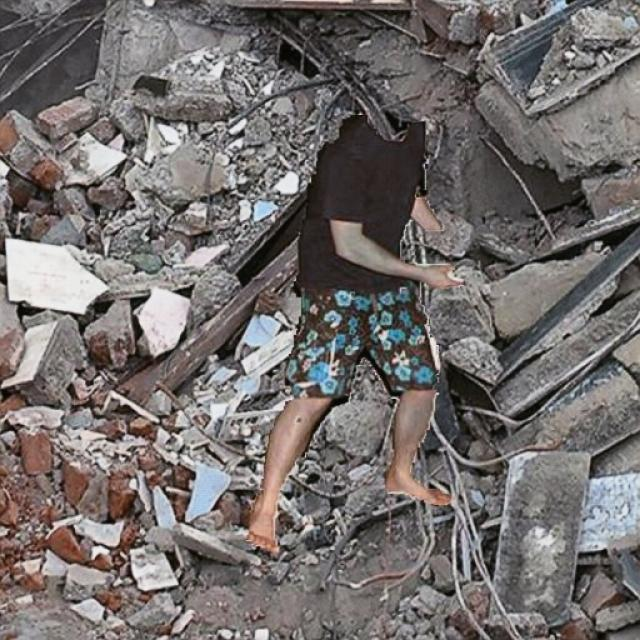Person in Rubble: (246, 115, 464, 551)
